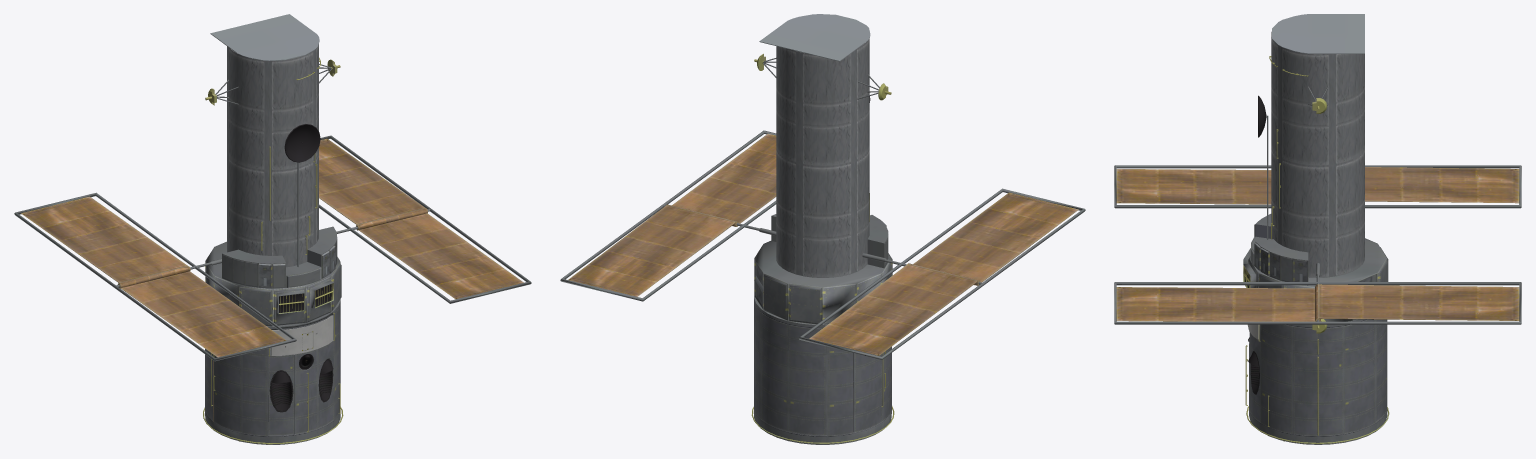
File: hubble.glb
3 renders of one model, left to right at view 1: azimuth 30°, elevation 25°; view 2: azimuth 150°, elevation 25°; view 3: azimuth 270°, elevation 25°, orthographic.
Visible parts, largest first — view 1: modello; view 2: modello; view 3: modello.
Part boxes in pixels (bbox=[...]): modello: bbox=[14, 14, 531, 444]; modello: bbox=[560, 14, 1085, 444]; modello: bbox=[1114, 14, 1521, 444].
Size of the model in its own units: 11.64 by 13.35 by 12.73.
Materials: 5 (5 with a texture image).
